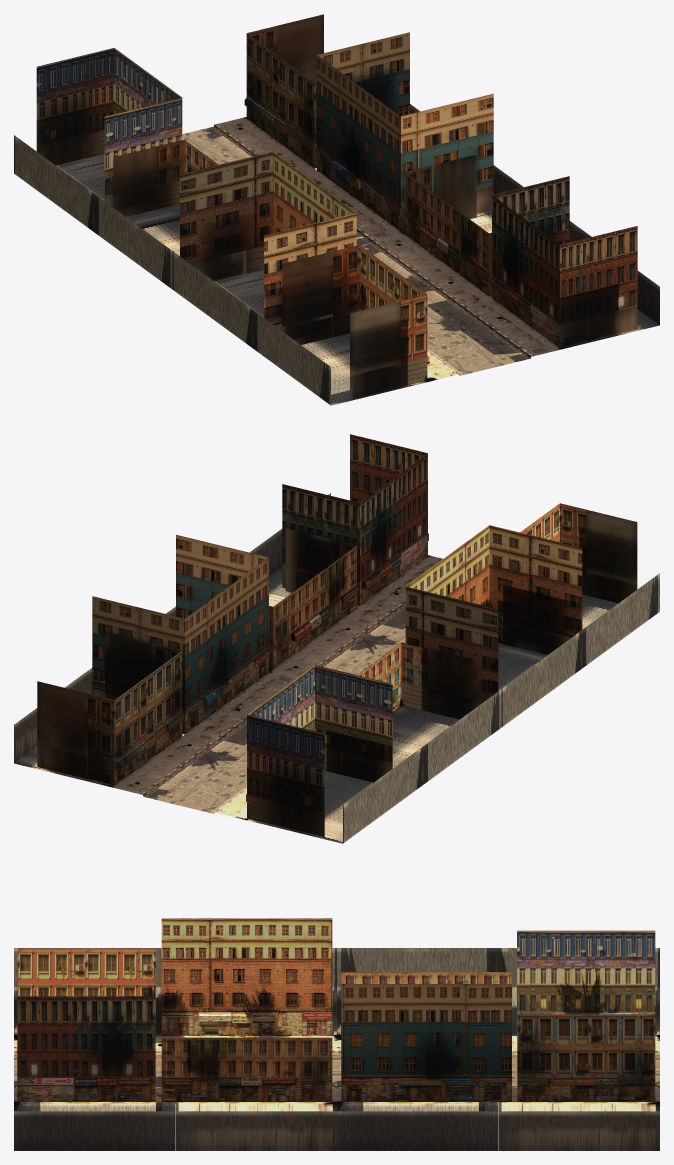
File: Buildings_Roads.fbx
3 views of the same model, one above another, from view 1: azimuth 30°, elevation 25°; view 2: azimuth 150°, elevation 25°; view 3: azimuth 270°, elevation 25° (orthographic).
Parts seen in each view (by area): view 1: Buildings, Roads; view 2: Buildings, Roads; view 3: Buildings, Roads.
Part boxes in pixels (x1,y1,x2,y2): Buildings: (36,14,637,399); Roads: (14,104,659,405); Buildings: (37,434,637,836); Roads: (14,493,659,843); Buildings: (17,918,655,1101); Roads: (14,948,659,1150).
Bounding box in the file's own units: 57.26 × 19.52 × 95.59.
Materials: 2 (2 with a texture image).
